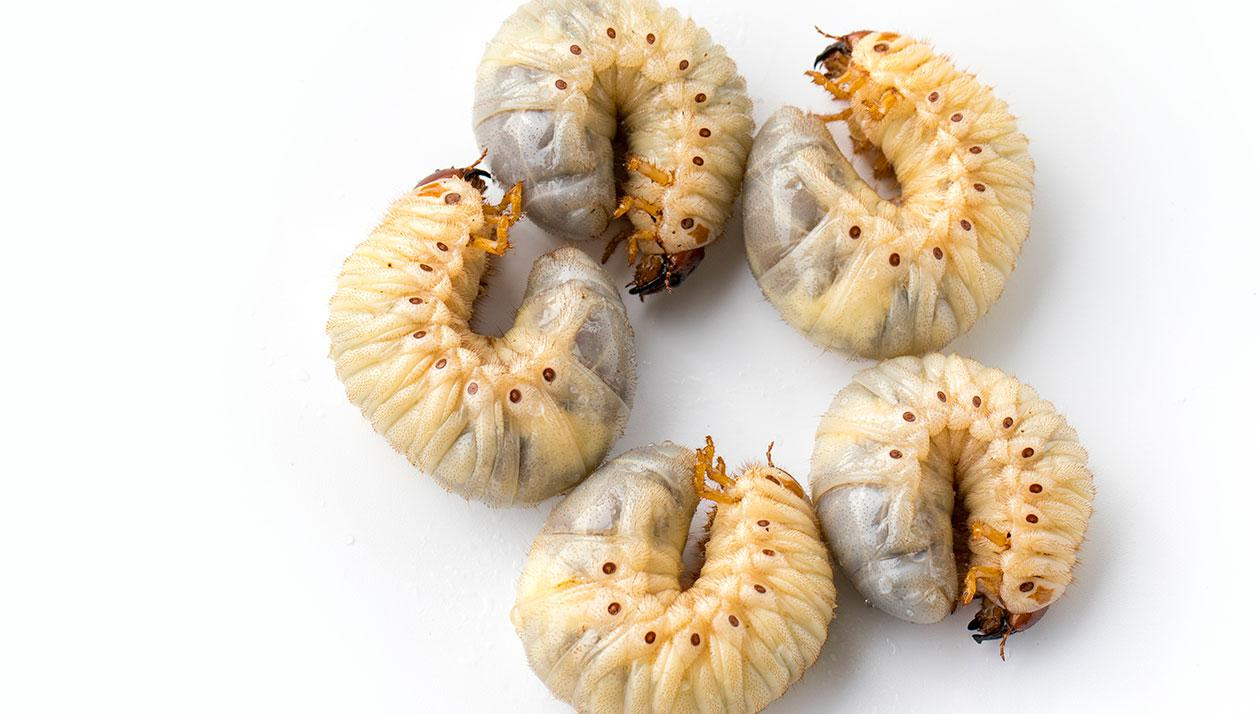grub: (321, 148, 628, 498)
